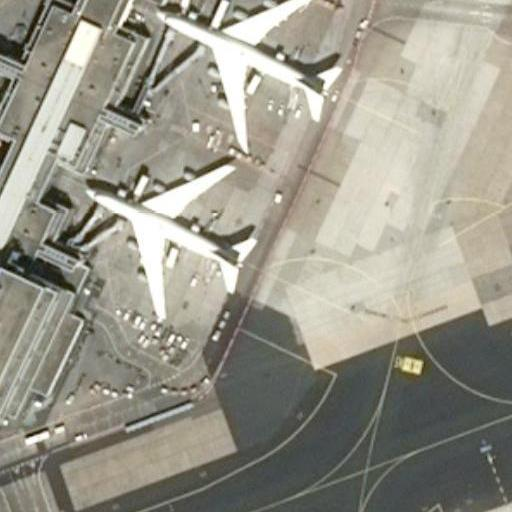Aircraft: (82, 154, 256, 319), (150, 0, 338, 152)
